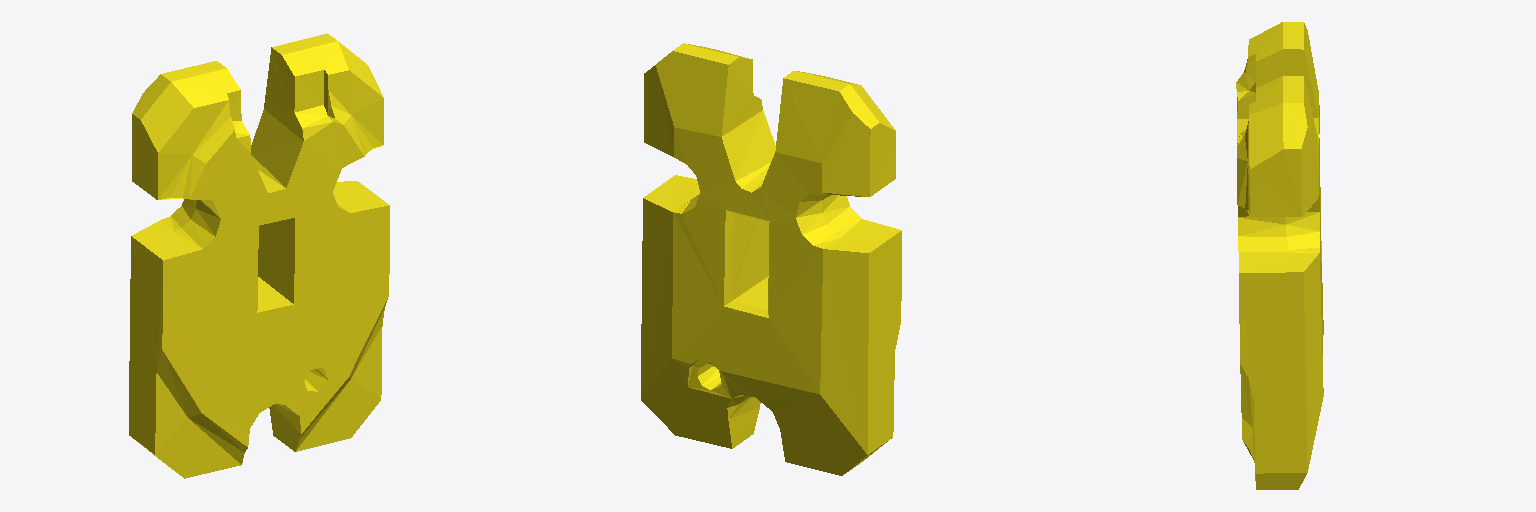
The model's file is bluevolta_body.obj.
The picture shows the model from 3 angles: view 1: azimuth 30°, elevation 25°; view 2: azimuth 150°, elevation 25°; view 3: azimuth 270°, elevation 25°; orthographic projection.
Parts seen in each view (by area): view 1: Blue_Volta-eROV.simplified.V2_OBJ2_Copy_of_11885-0518^Blue_Volt; view 2: Blue_Volta-eROV.simplified.V2_OBJ2_Copy_of_11885-0518^Blue_Volt; view 3: Blue_Volta-eROV.simplified.V2_OBJ2_Copy_of_11885-0518^Blue_Volt.
Part boxes in pixels (x1,y1,x2,y2): Blue_Volta-eROV.simplified.V2_OBJ2_Copy_of_11885-0518^Blue_Volt: (129, 33, 389, 478); Blue_Volta-eROV.simplified.V2_OBJ2_Copy_of_11885-0518^Blue_Volt: (641, 43, 901, 475); Blue_Volta-eROV.simplified.V2_OBJ2_Copy_of_11885-0518^Blue_Volt: (1236, 22, 1323, 489).
Bounding box in the file's own units: 0.8587 × 1.4 × 0.2858.